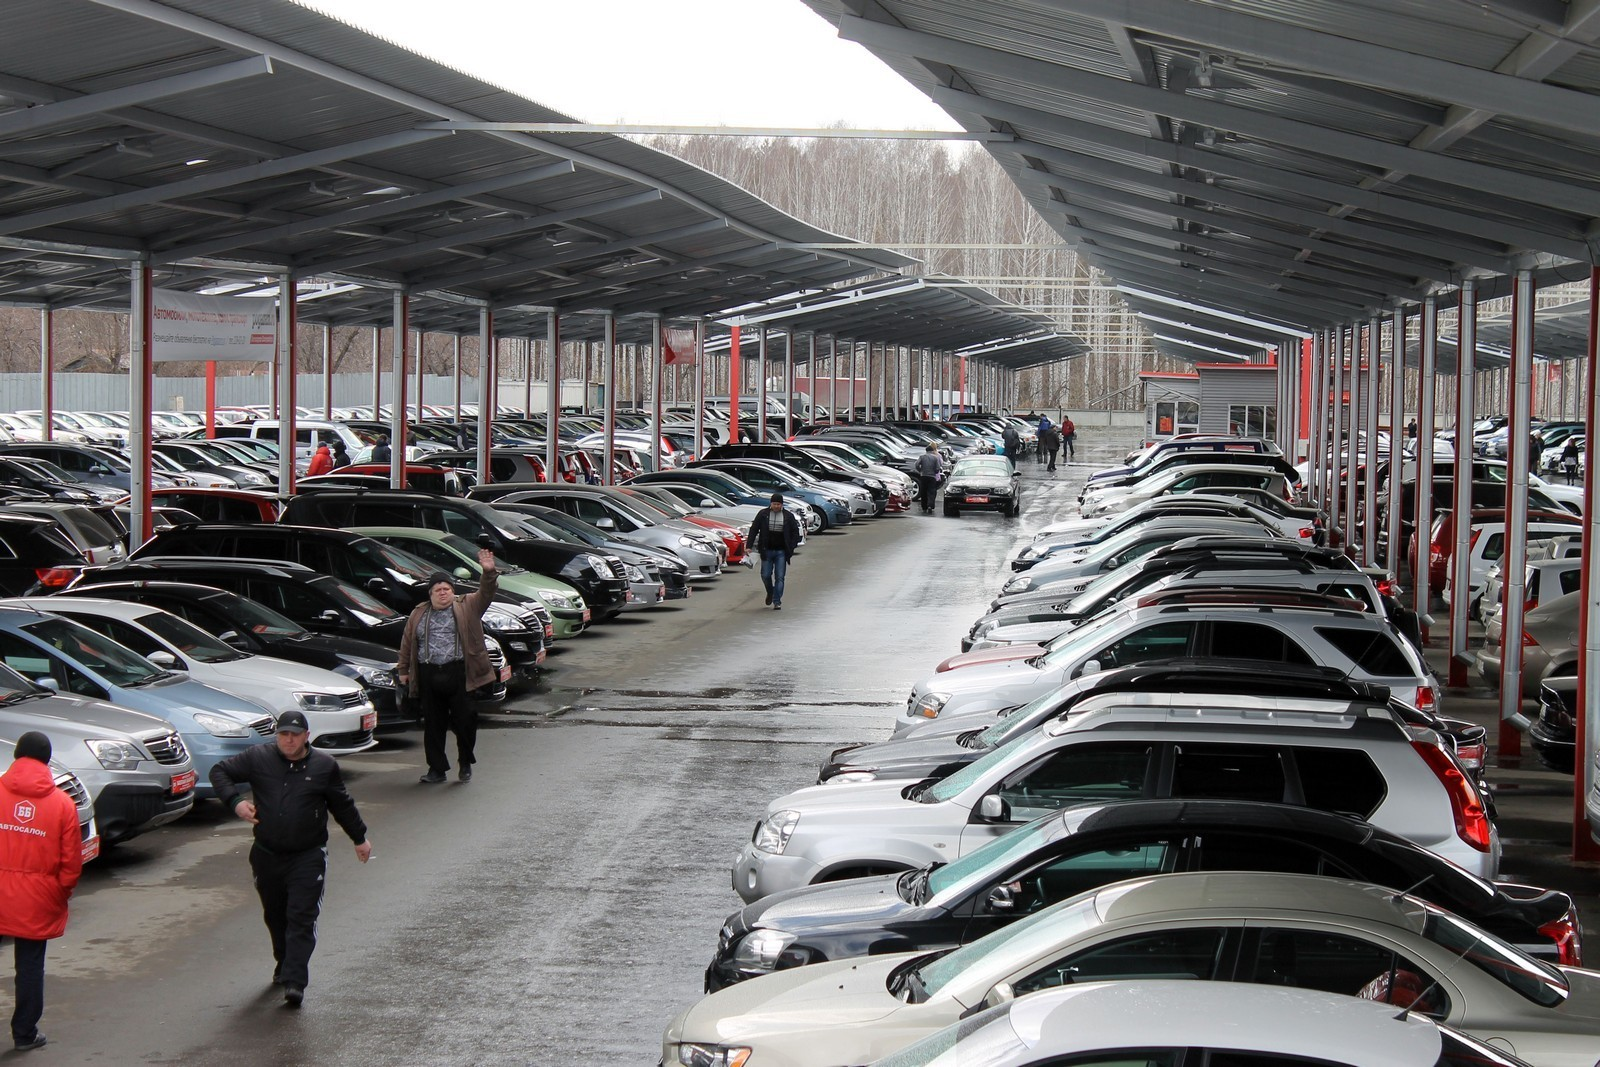Car: (660, 871, 1600, 1067), (704, 800, 1583, 992), (731, 691, 1500, 901), (810, 655, 1458, 788), (893, 597, 1442, 736), (65, 555, 512, 705), (124, 522, 546, 672), (0, 595, 380, 756), (874, 979, 1524, 1067), (49, 580, 425, 728), (0, 604, 276, 799), (274, 487, 632, 631), (968, 557, 1426, 657), (961, 543, 1362, 651), (936, 584, 1368, 675), (0, 660, 199, 850), (339, 525, 592, 639), (985, 535, 1327, 614), (465, 482, 730, 568), (0, 736, 100, 947), (492, 489, 723, 580), (485, 503, 692, 600), (494, 510, 665, 623), (996, 523, 1251, 598), (1011, 503, 1287, 572), (1376, 475, 1568, 566), (1407, 506, 1583, 595), (404, 549, 555, 649), (1033, 493, 1315, 543), (1442, 522, 1583, 620), (617, 469, 810, 538), (699, 442, 892, 510), (1383, 453, 1585, 517), (1031, 516, 1274, 568), (1476, 588, 1582, 706), (1076, 450, 1302, 504), (695, 463, 854, 535), (1088, 467, 1301, 519), (1080, 463, 1276, 519), (604, 486, 746, 562), (0, 441, 177, 494), (729, 457, 876, 520), (786, 435, 921, 500), (1185, 486, 1329, 545), (0, 500, 127, 566), (0, 511, 93, 598), (1088, 438, 1264, 482), (777, 441, 914, 492), (621, 486, 754, 538), (1433, 712, 1498, 818), (111, 486, 286, 523), (681, 460, 848, 498), (0, 456, 130, 504), (631, 481, 769, 523), (154, 439, 280, 485), (1480, 538, 1552, 617), (250, 419, 367, 468), (151, 443, 273, 489), (819, 458, 912, 518), (1480, 547, 1548, 628), (889, 701, 1029, 741), (943, 454, 1023, 519), (1529, 675, 1577, 776), (0, 457, 104, 505), (492, 444, 604, 487), (196, 438, 310, 480), (86, 445, 198, 487), (321, 419, 456, 454), (325, 461, 464, 494), (1293, 454, 1385, 503), (465, 448, 586, 485), (14, 410, 125, 449), (413, 451, 548, 483), (573, 429, 686, 467), (800, 448, 906, 488), (1125, 432, 1239, 466), (881, 419, 987, 454), (151, 449, 238, 489), (1494, 422, 1587, 458), (1525, 557, 1582, 612), (811, 422, 930, 447), (583, 439, 682, 469), (214, 437, 313, 467), (819, 425, 926, 453), (1326, 461, 1385, 511), (820, 431, 926, 458), (0, 413, 89, 445), (23, 413, 107, 445), (1177, 436, 1285, 461), (643, 422, 752, 445), (85, 504, 131, 556), (702, 394, 801, 418), (1355, 491, 1390, 556), (1473, 422, 1546, 453), (115, 506, 206, 531), (454, 422, 546, 445), (758, 491, 819, 526), (101, 411, 180, 438), (645, 428, 718, 456), (576, 444, 644, 474), (490, 422, 569, 447), (1365, 568, 1405, 617), (726, 416, 802, 441), (1012, 414, 1077, 443), (407, 425, 477, 451), (765, 391, 830, 419), (496, 419, 586, 439), (75, 413, 130, 445), (296, 474, 413, 488), (0, 414, 61, 442), (1585, 743, 1600, 847), (1473, 416, 1545, 437), (240, 482, 368, 494), (956, 424, 1005, 455), (911, 387, 989, 406), (946, 425, 996, 454), (1539, 438, 1583, 470), (351, 444, 425, 463), (517, 424, 580, 445), (0, 474, 50, 500), (1548, 438, 1587, 470), (350, 406, 415, 425), (1033, 574, 1105, 591), (588, 451, 623, 485), (152, 411, 206, 432), (418, 425, 477, 444), (180, 424, 252, 439), (663, 407, 730, 424), (73, 411, 129, 430), (945, 422, 1005, 439), (532, 419, 592, 437), (1444, 420, 1486, 445), (636, 449, 677, 473), (1540, 536, 1582, 560), (567, 414, 635, 429), (244, 405, 317, 418), (1327, 439, 1390, 454), (1542, 435, 1586, 454), (152, 416, 190, 437), (1479, 429, 1508, 456), (1540, 425, 1586, 443), (956, 413, 1015, 426), (1408, 439, 1455, 456), (380, 405, 418, 425), (1438, 420, 1479, 439), (957, 418, 1005, 433), (452, 467, 496, 483), (433, 424, 477, 441), (177, 411, 224, 426), (1544, 431, 1586, 448), (815, 413, 879, 424), (219, 406, 269, 419), (346, 407, 392, 422), (840, 406, 894, 418), (560, 418, 604, 432), (614, 457, 639, 482), (749, 425, 786, 442), (215, 407, 265, 419), (1342, 448, 1413, 456), (1558, 451, 1585, 474), (1002, 417, 1039, 432), (1327, 429, 1367, 443), (381, 404, 417, 419), (1405, 437, 1440, 453), (463, 401, 510, 413), (457, 470, 477, 497), (1358, 429, 1390, 444), (614, 414, 649, 429), (1377, 460, 1390, 497), (562, 420, 595, 435), (1340, 443, 1390, 453), (258, 410, 302, 420), (201, 411, 233, 425), (618, 407, 652, 420), (1327, 438, 1381, 447), (215, 411, 250, 423), (0, 423, 20, 443), (314, 407, 348, 419), (231, 414, 268, 425), (543, 405, 583, 414), (354, 430, 377, 445), (10, 431, 40, 443), (1450, 419, 1487, 429), (298, 414, 346, 422), (738, 425, 758, 442), (421, 416, 462, 424), (352, 429, 383, 439), (705, 408, 730, 422), (624, 414, 652, 425), (407, 404, 432, 416), (899, 406, 919, 420), (661, 412, 687, 423), (450, 405, 476, 416), (590, 408, 624, 417), (432, 406, 465, 414), (795, 425, 824, 435), (567, 417, 605, 424), (669, 412, 694, 423), (738, 423, 781, 429), (346, 407, 368, 419), (423, 405, 445, 416), (802, 420, 843, 426), (1377, 453, 1411, 460), (332, 407, 351, 419), (795, 411, 810, 426), (1486, 442, 1500, 457), (682, 445, 695, 462), (765, 428, 777, 443), (507, 413, 538, 419), (1433, 429, 1455, 437), (461, 406, 479, 416), (679, 412, 695, 422), (421, 419, 448, 425), (1379, 430, 1390, 442), (436, 408, 455, 416), (990, 420, 1006, 429), (661, 414, 676, 423), (461, 414, 479, 422), (717, 408, 730, 418), (1577, 462, 1585, 479), (498, 414, 520, 419), (530, 413, 548, 419), (502, 406, 520, 412), (1002, 407, 1013, 417), (738, 408, 750, 417), (308, 408, 325, 414), (462, 405, 479, 411), (511, 406, 524, 413), (885, 413, 894, 422), (460, 417, 476, 422), (560, 412, 580, 416), (702, 417, 714, 423), (873, 413, 881, 422), (923, 410, 930, 419), (738, 411, 745, 419), (1139, 437, 1144, 449), (537, 412, 546, 418), (744, 411, 755, 416), (749, 411, 760, 416), (661, 417, 668, 423), (496, 416, 508, 419), (560, 413, 567, 418), (498, 408, 502, 413), (540, 412, 546, 416)
